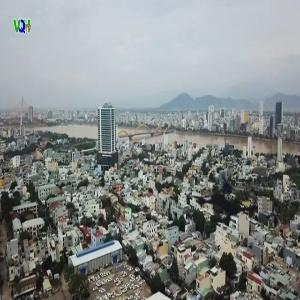drone: (175, 148, 281, 254)
